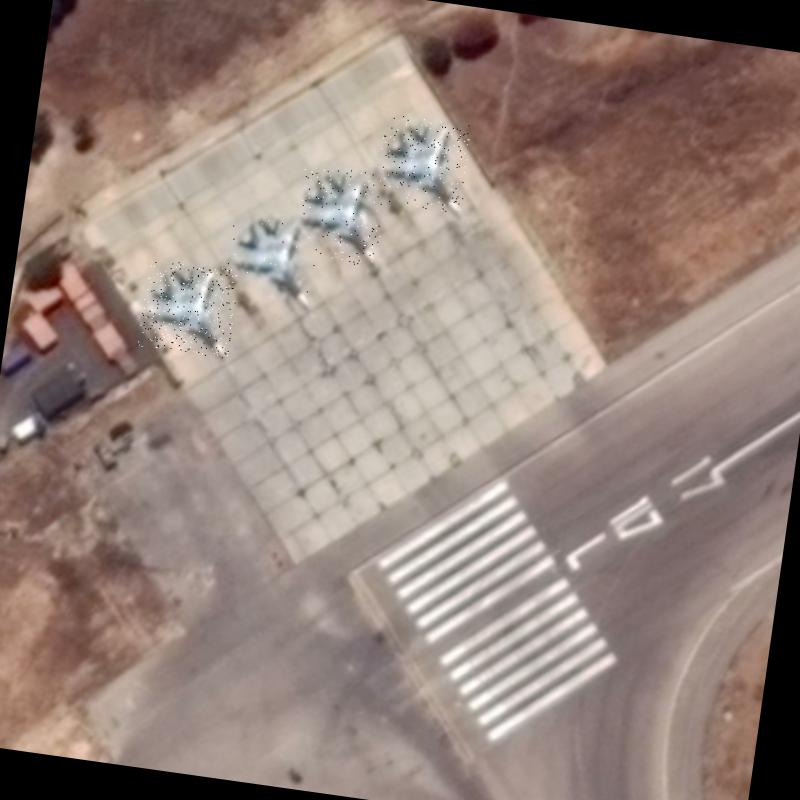A19: (136, 258, 240, 358), (222, 205, 322, 308), (291, 163, 389, 268), (373, 113, 474, 214)
